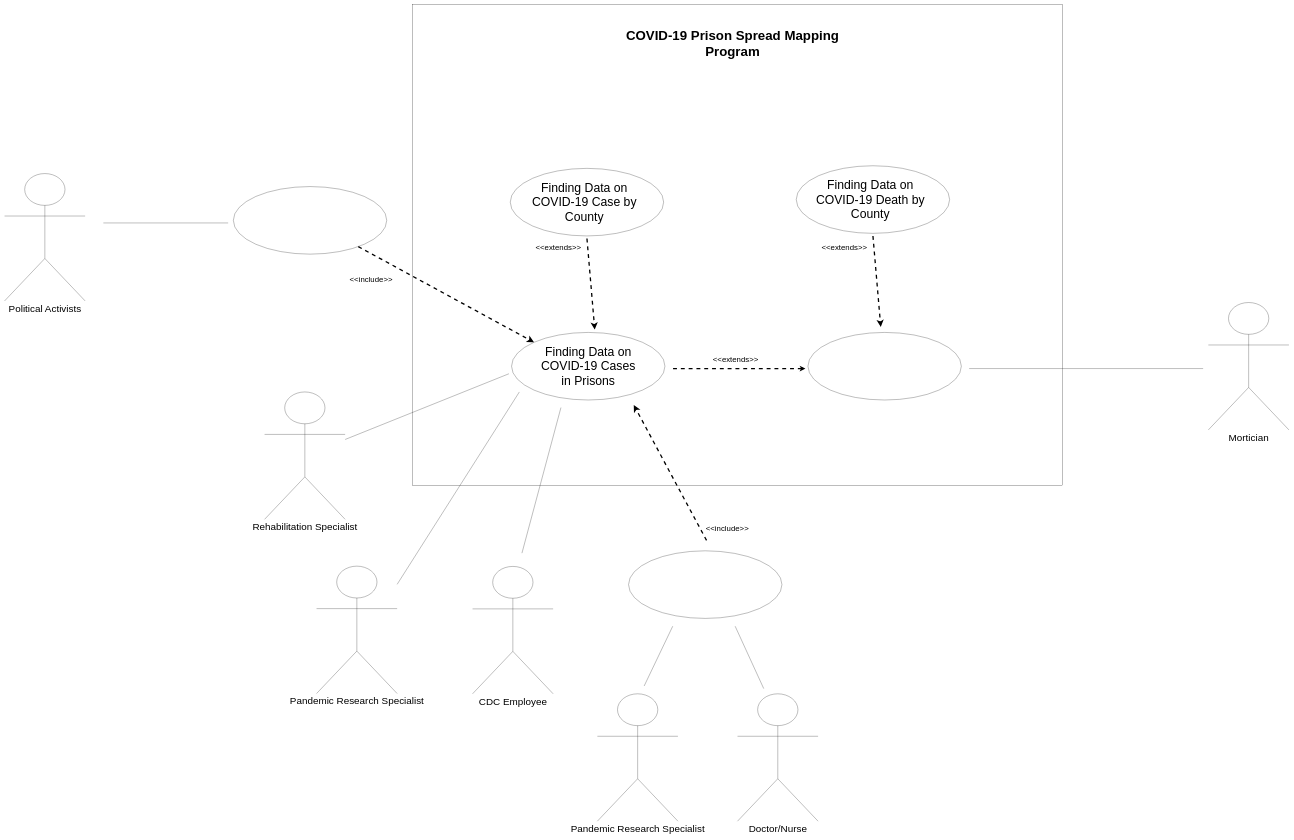
Image size: 1294x840. Some labels were removed from this diagram. Each missing label, with the box of its shape:
Finding Data on COVID-19 Deaths in Prisons: (808, 332, 961, 400)
Make Budget for PPE and Medical Care: (628, 551, 782, 618)
Organizing arguments on the quality of inmate life: (233, 186, 387, 254)
